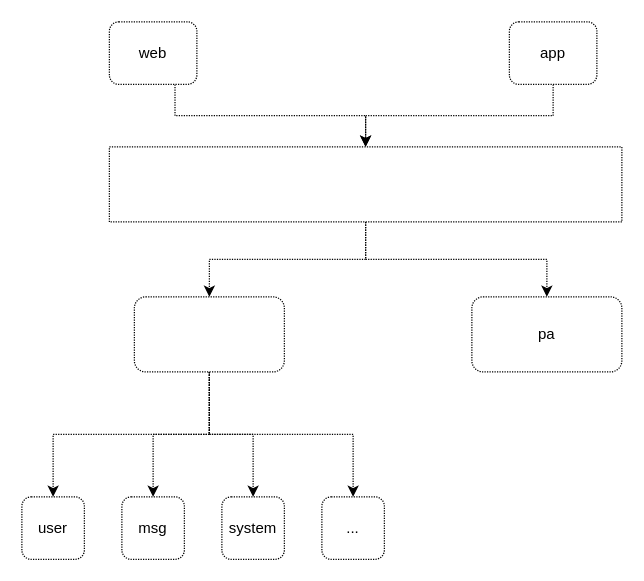
This 644x581 diagram has some shape labels left out. The shapes that lost their labels are listed below. From the top down, each one's box as (x1, y1, x2, y2) in pixels, then its label:
(108, 146, 622, 222): pass
(133, 296, 284, 372): gateway
